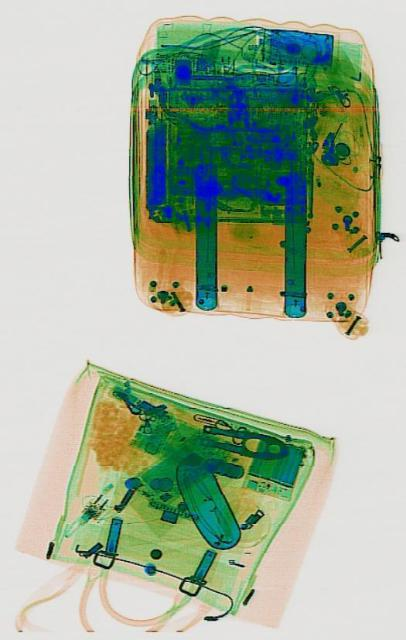Pliers: (196, 416, 286, 466)
